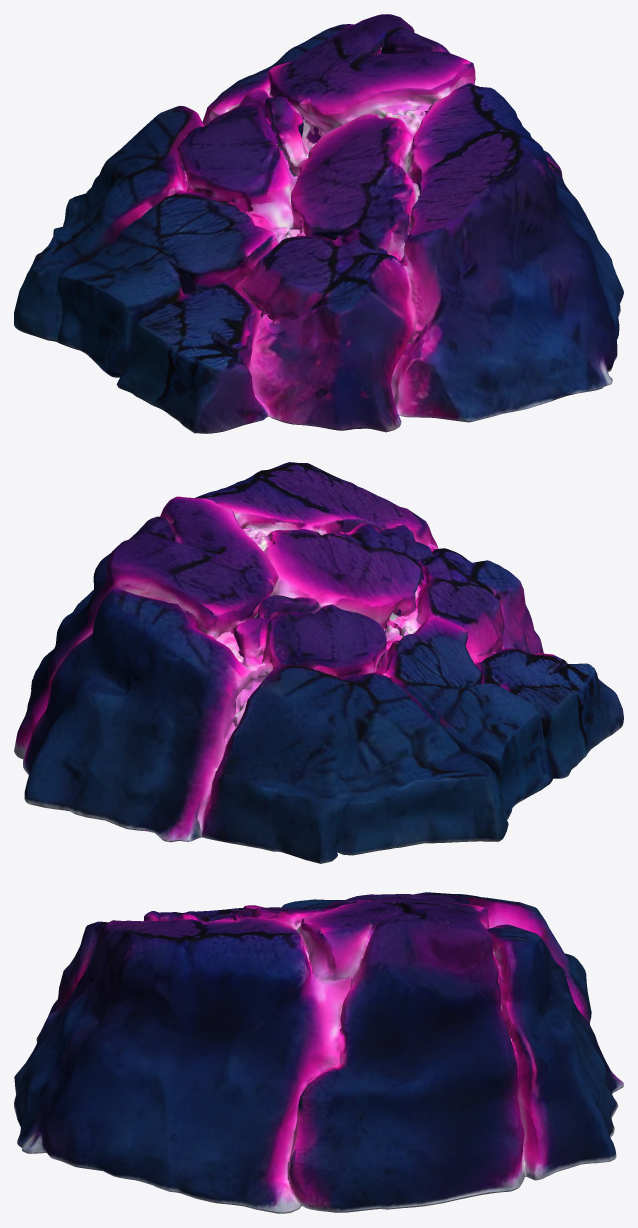
The model's file is shore-stone-6-generated-2026-05-17T20-07-37-262Z.medium.glb.
3 renders of one model, top to bottom at view 1: azimuth 30°, elevation 25°; view 2: azimuth 150°, elevation 25°; view 3: azimuth 270°, elevation 25°, orthographic. The views are drawn at different scales.
Visible parts, largest first — view 1: temp_mesh.ply; view 2: temp_mesh.ply; view 3: temp_mesh.ply.
Boxes of the visible parts, bbox=[...] form: temp_mesh.ply: bbox=[14, 14, 623, 433]; temp_mesh.ply: bbox=[14, 462, 623, 863]; temp_mesh.ply: bbox=[14, 892, 623, 1213].
Bounding box in the file's own units: 1.97 × 0.8089 × 1.97.
1 material, 1 textured.
